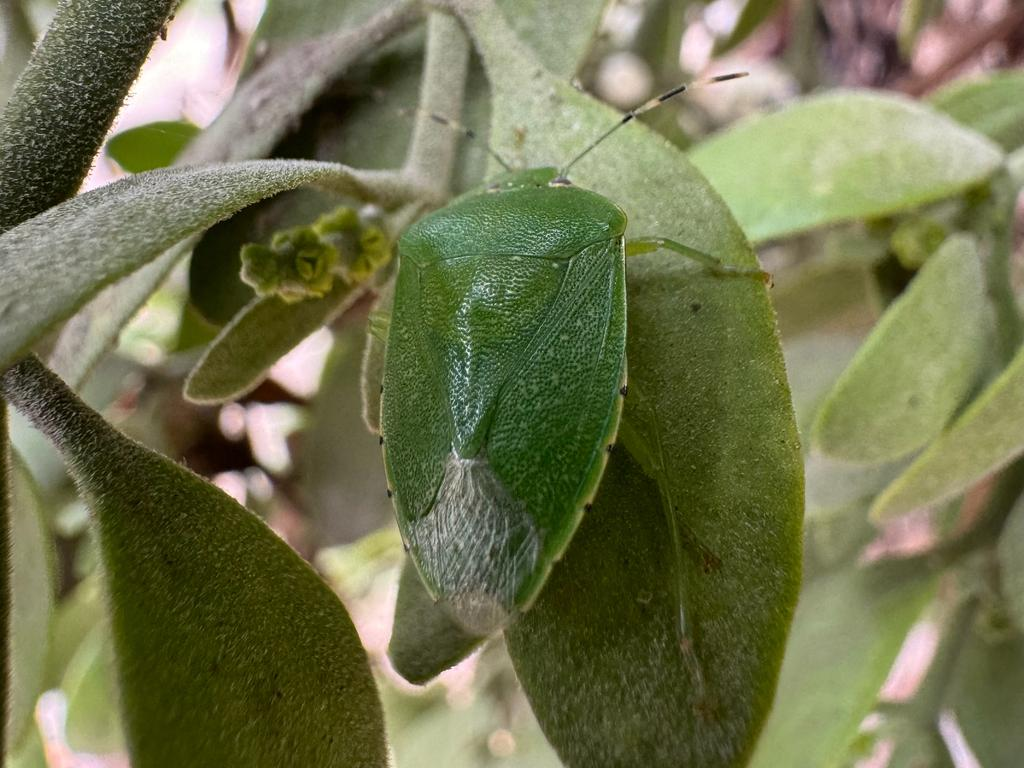stink_bugs: (308, 36, 788, 689)
